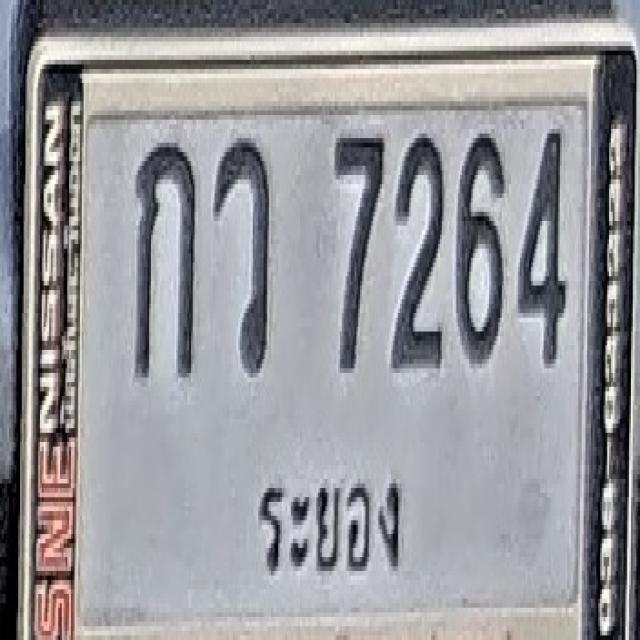2: (391, 129, 444, 364)
4: (518, 122, 566, 361)
6: (457, 129, 505, 359)
7: (334, 129, 384, 368)
A01: (134, 136, 197, 375)
A37: (214, 131, 270, 371)
RYG: (252, 459, 406, 584)
